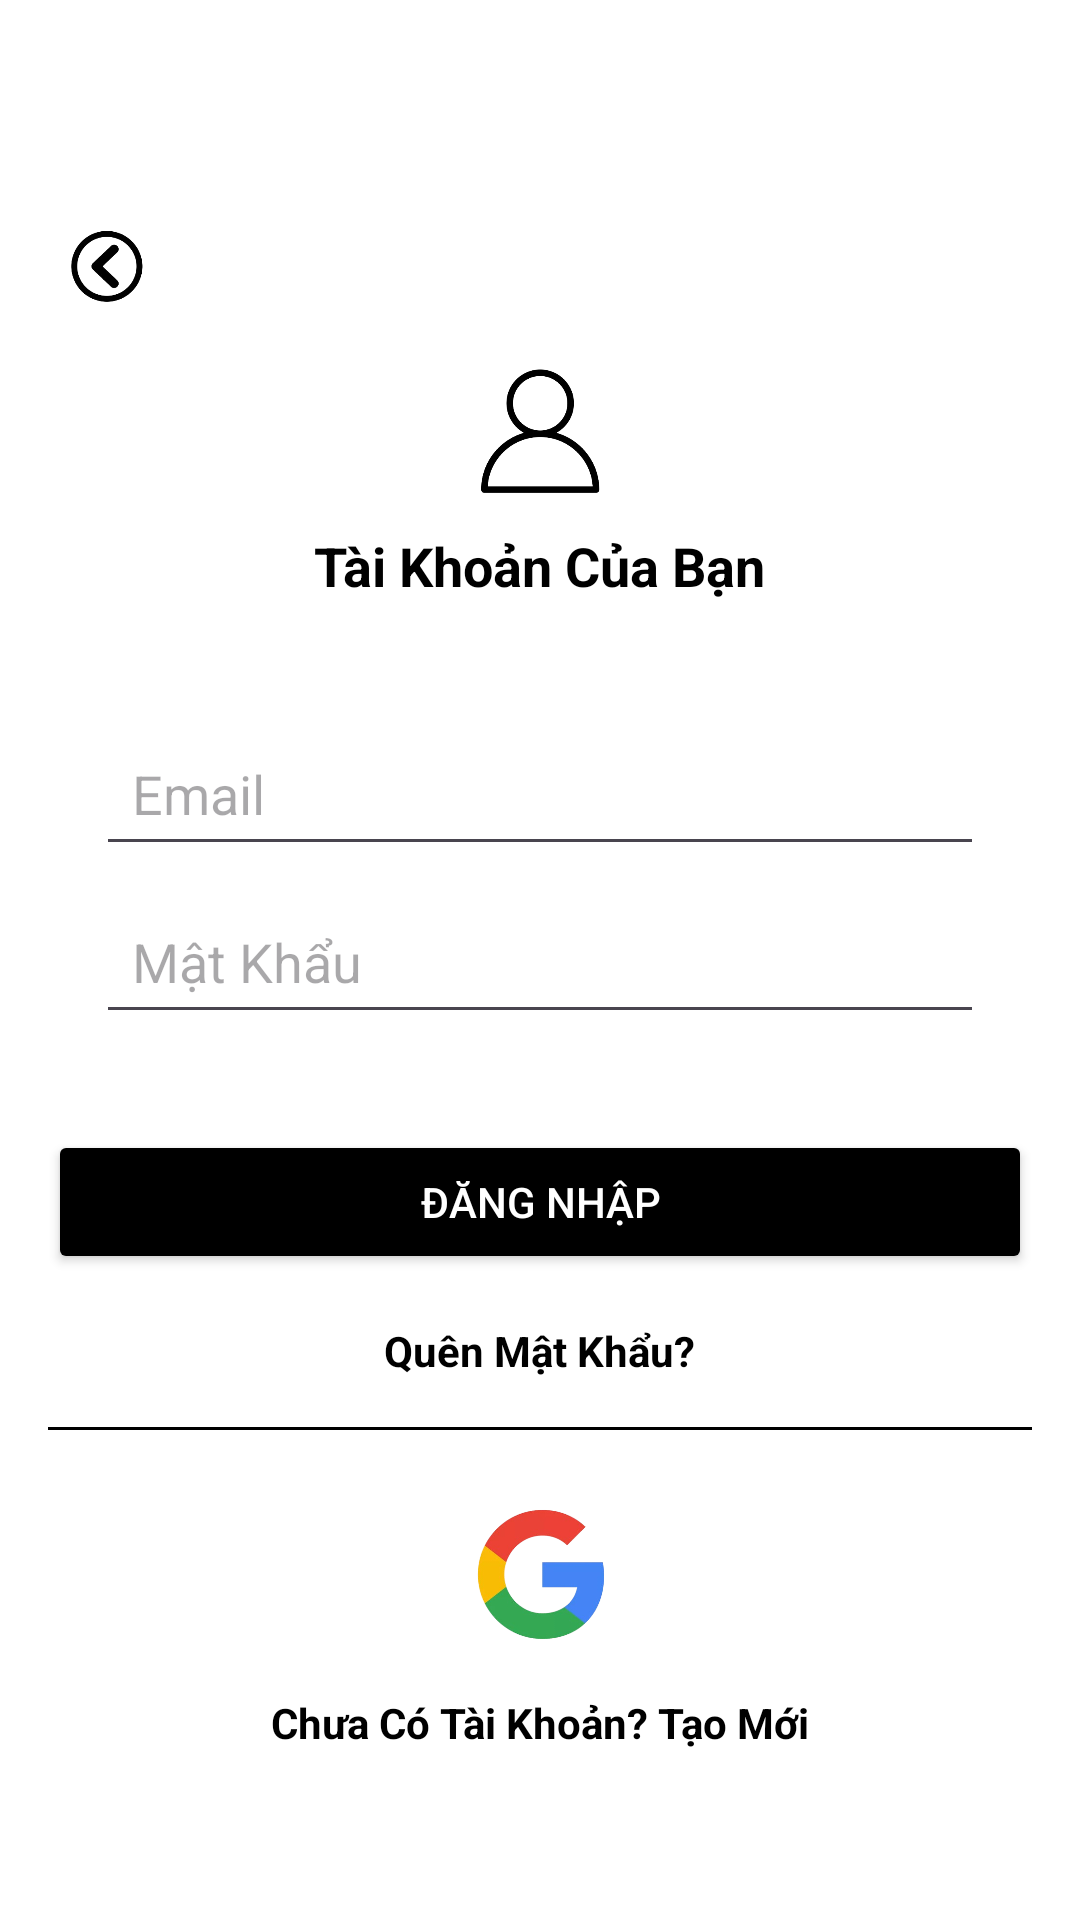

Point at icon controls on the screen. Image size 1080x1920, points as (x=x, y=y).
quayve: (x=107, y=266)
